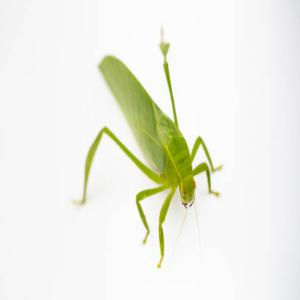locust: (79, 36, 223, 271)
